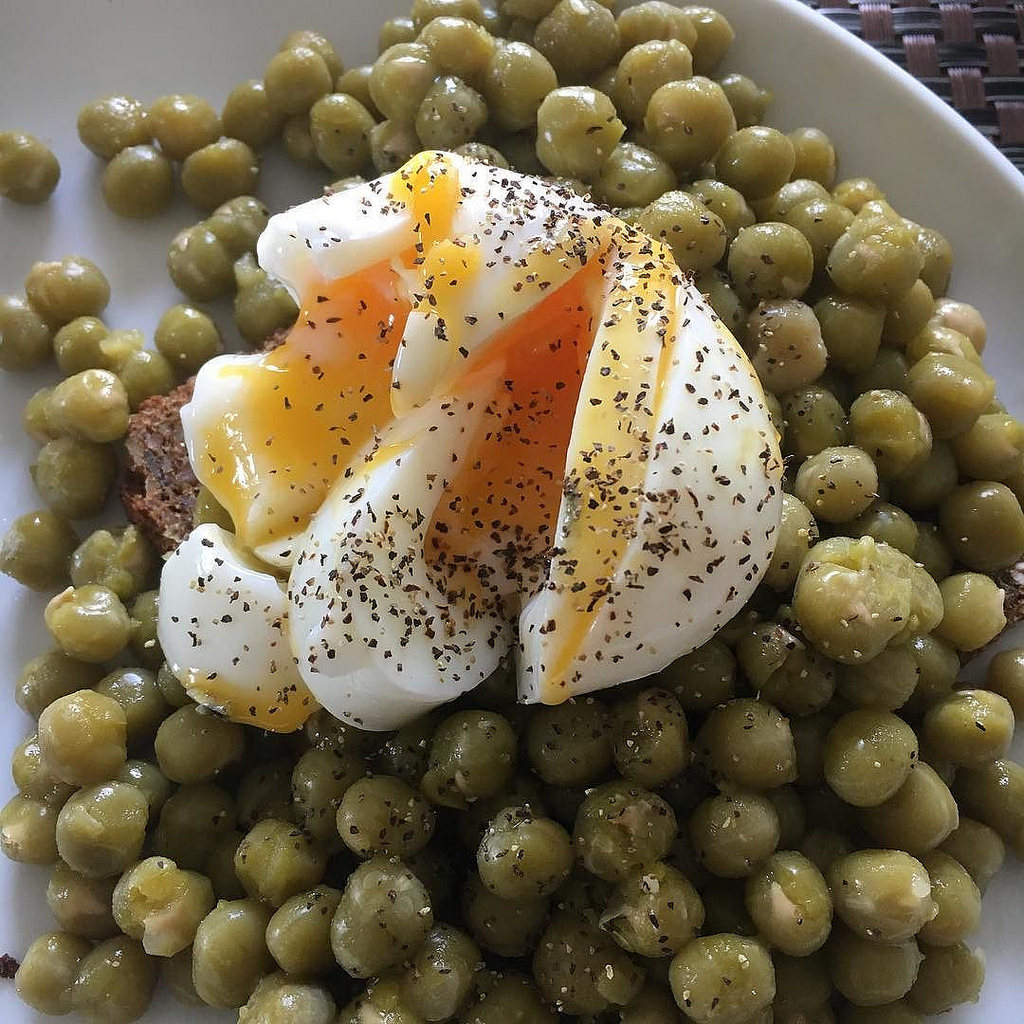boiled peas: (278, 750, 865, 981)
fried egg: (245, 178, 737, 642)
